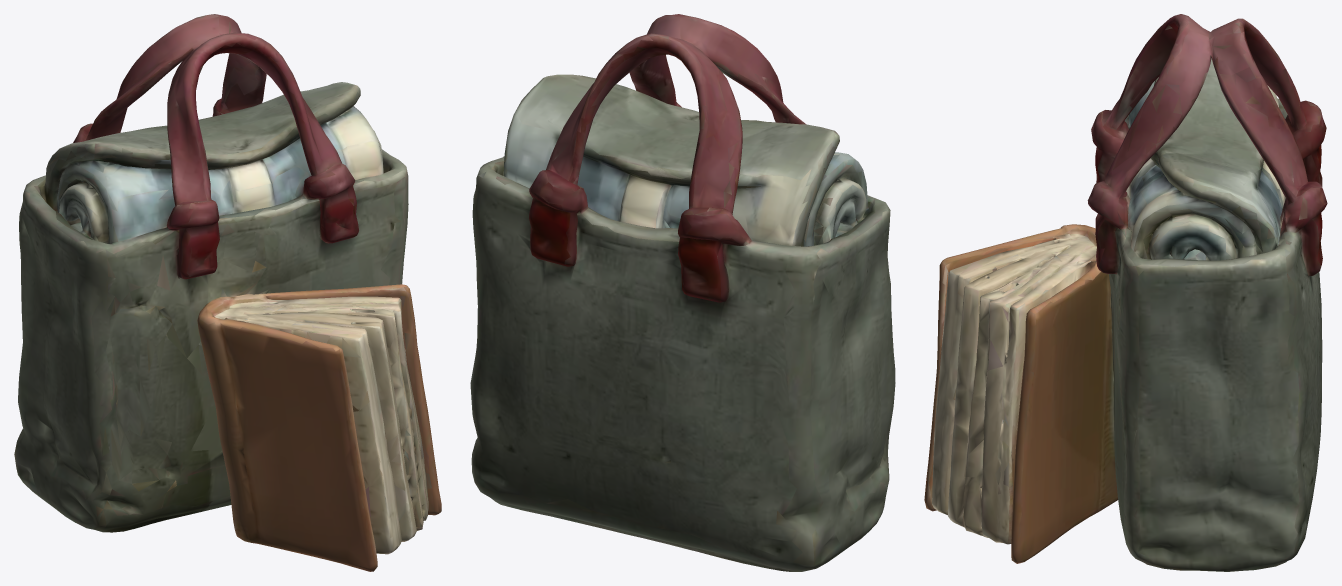
Rendered from sc-intake-guide.glb.
3 views of the same model, side by side, from view 1: azimuth 30°, elevation 25°; view 2: azimuth 150°, elevation 25°; view 3: azimuth 270°, elevation 25° (orthographic). The views are drawn at different scales.
Visible parts, largest first — view 1: geometry_0; view 2: geometry_0; view 3: geometry_0.
Boxes of the visible parts, x1,y1,x2,y2 form: geometry_0: (14, 14, 441, 571); geometry_0: (470, 14, 895, 571); geometry_0: (924, 14, 1327, 571).
Bounding box in the file's own units: 0.7548 × 1 × 0.7726.
1 material, 1 textured.
